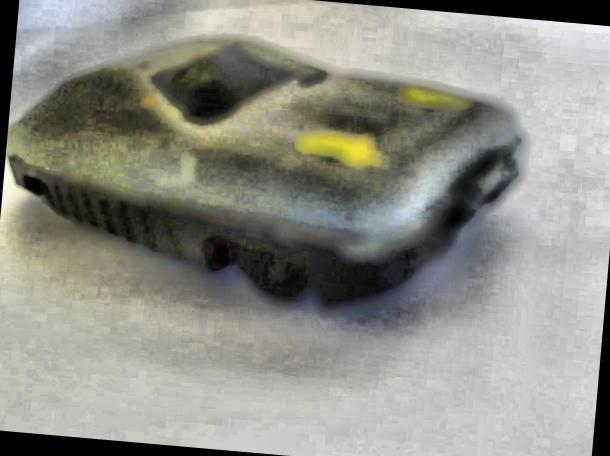normal_car: (0, 13, 536, 326)
